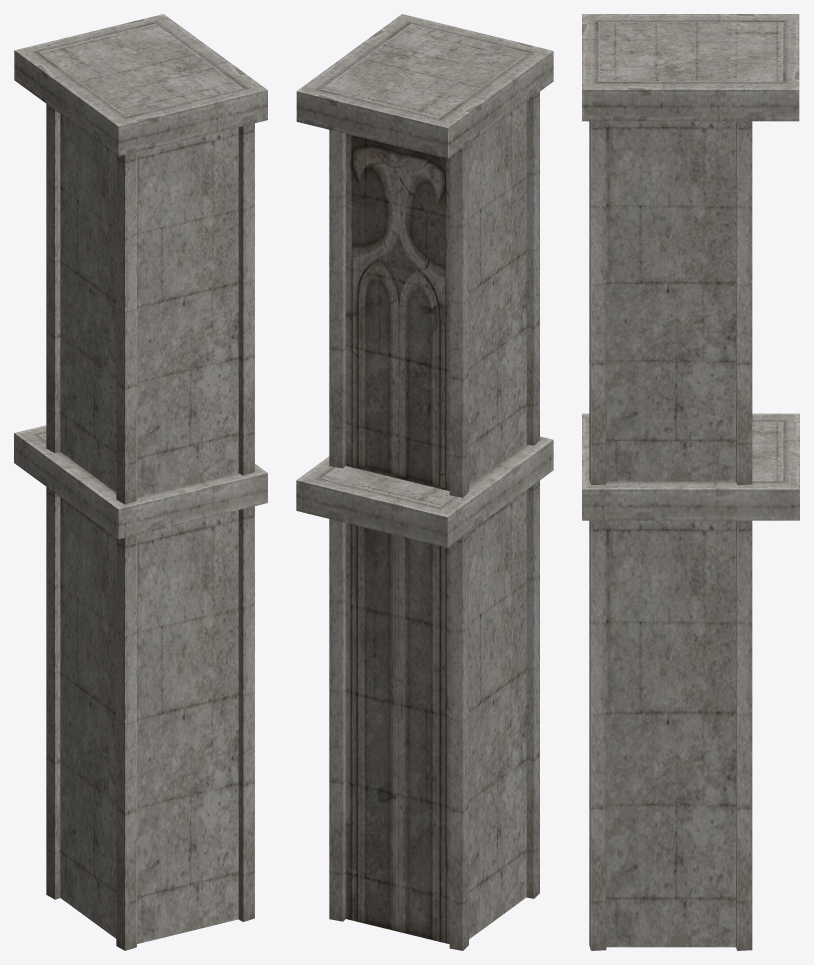
File: bg_lut_lucastle_churchunderprop05_sm_msj.FBX
3 renders of one model, left to right at view 1: azimuth 30°, elevation 25°; view 2: azimuth 150°, elevation 25°; view 3: azimuth 270°, elevation 25°, orthographic. The views are drawn at different scales.
Visible parts, largest first — view 1: bg_lut_lucastle_churchunderprop05_sm_msj; view 2: bg_lut_lucastle_churchunderprop05_sm_msj; view 3: bg_lut_lucastle_churchunderprop05_sm_msj.
Boxes of the visible parts, bbox=[...] form: bg_lut_lucastle_churchunderprop05_sm_msj: bbox=[14, 14, 267, 950]; bg_lut_lucastle_churchunderprop05_sm_msj: bbox=[296, 14, 553, 950]; bg_lut_lucastle_churchunderprop05_sm_msj: bbox=[582, 14, 799, 950].
Bounding box in the file's own units: 79.38 × 421 × 96.17.
